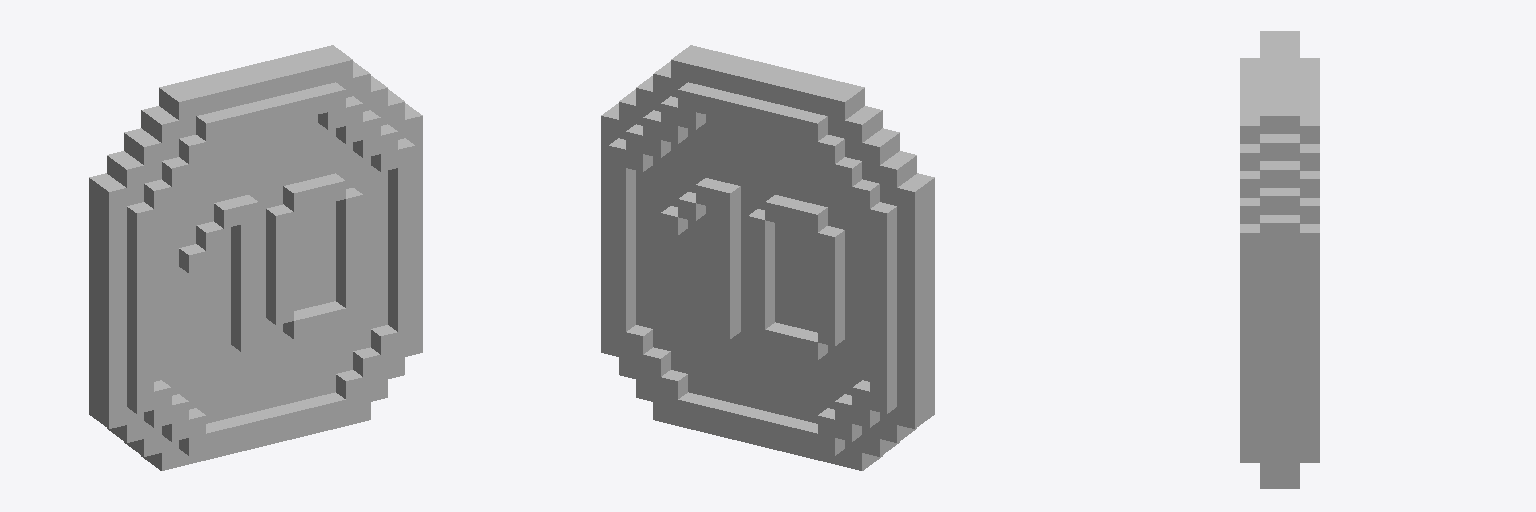
Rendered from money2.obj.
3 renders of one model, left to right at view 1: azimuth 30°, elevation 25°; view 2: azimuth 150°, elevation 25°; view 3: azimuth 270°, elevation 25°, orthographic.
Visible parts, largest first — view 1: object 1; view 2: object 1; view 3: object 1.
Part boxes in pixels (left/top/right/bottom): object 1: left=89, top=45, right=422, bottom=470; object 1: left=601, top=45, right=934, bottom=470; object 1: left=1240, top=31, right=1319, bottom=488.
Size of the model in its own units: 1.8 by 2 by 0.4.